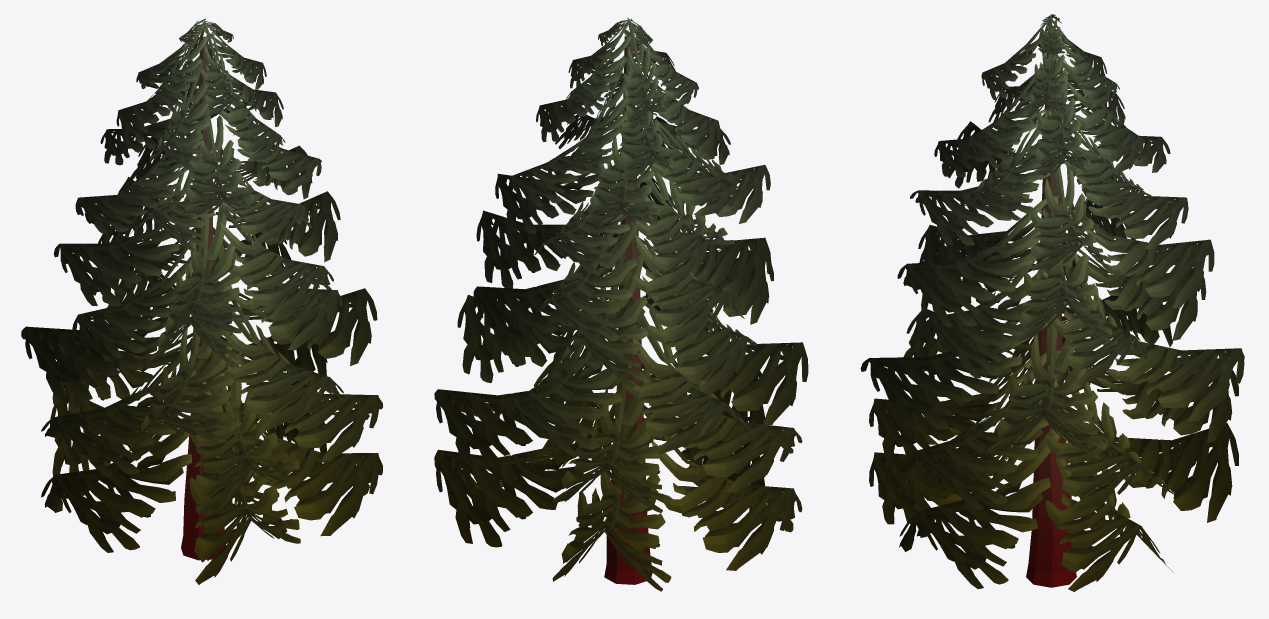
3 views of the same model, side by side, from view 1: azimuth 30°, elevation 25°; view 2: azimuth 150°, elevation 25°; view 3: azimuth 270°, elevation 25° (orthographic). The views are drawn at different scales.
Visible parts, largest first — view 1: SM_Tree_Pine_02; view 2: SM_Tree_Pine_02; view 3: SM_Tree_Pine_02.
Boxes of the visible parts, x1=… form: SM_Tree_Pine_02: x1=21, y1=18, x2=382, y2=584; SM_Tree_Pine_02: x1=434, y1=17, x2=808, y2=591; SM_Tree_Pine_02: x1=860, y1=14, x2=1244, y2=591.
Size of the model in its own units: 2.99 by 4.59 by 3.
Materials: 2 (2 with a texture image).
